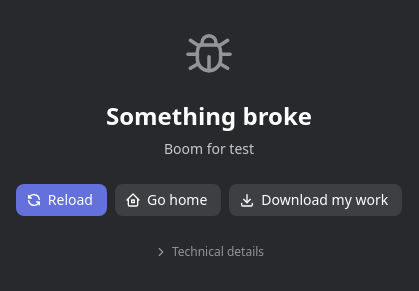
Test case: ErrorFallback › shows 'Nothing saved' message when IndexedDB has nothing to recover
Click the button "Download my work".
click(316, 200)  # box [229,184,402,216]
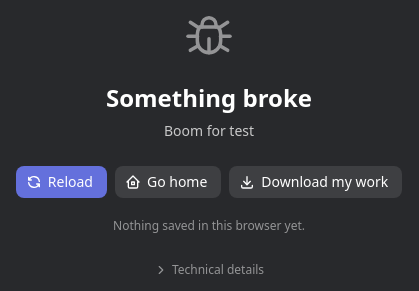
Expected: the text "Nothing saved in this browser yet." is shown, [113,218,305,234]
